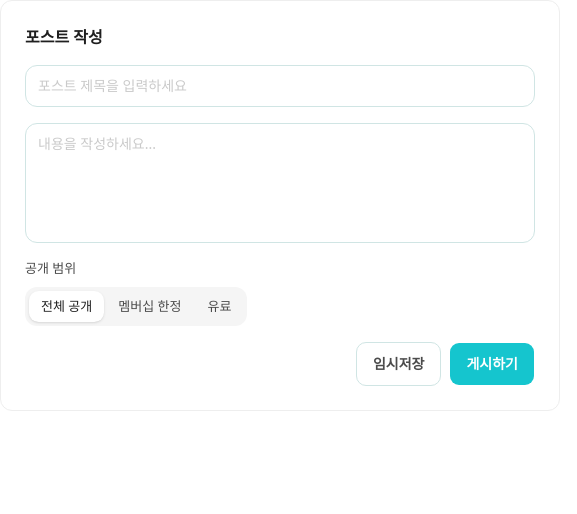
PostCreateForm (FR-012, FR-013) › PAID 선택 시 priceKrw 입력 필드가 나타난다 (FR-013)
Check: the field labelled "콘텐츠 가격 (원)" is not shown
Click the button "유료": (219, 306) [195,290,243,322]
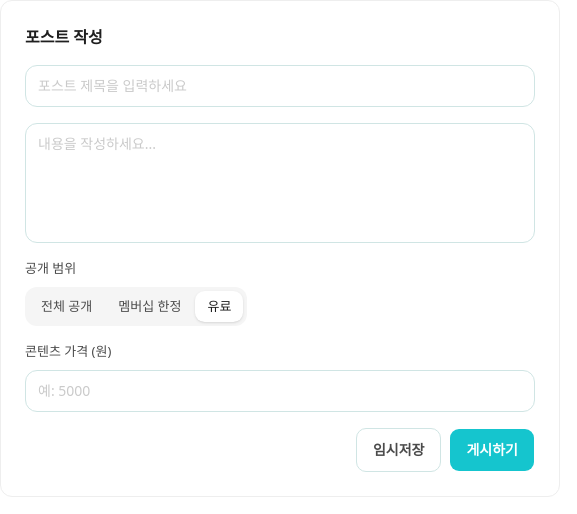
Check: the number field labelled "콘텐츠 가격 (원)" is shown, box [25,370,535,412]
